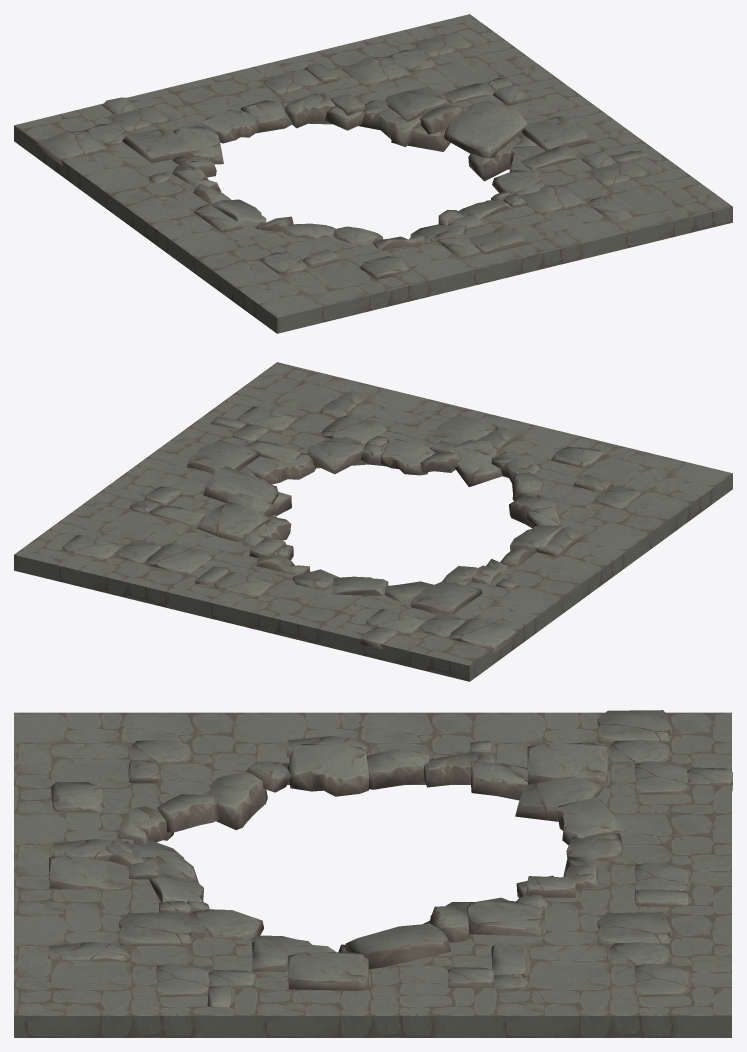
File: SM_FW01_Ruins_Int_Floor_6x6_Brkn_01.fbx
3 views of the same model, one above another, from view 1: azimuth 30°, elevation 25°; view 2: azimuth 150°, elevation 25°; view 3: azimuth 270°, elevation 25° (orthographic). The views are drawn at different scales.
Visible parts, largest first — view 1: SM_FW01_Ruins_Int_Floor_6x6_Brkn_01, SM_FW01_Ruins_Int_Floor_6x6_Brkn_01_LOD0; view 2: SM_FW01_Ruins_Int_Floor_6x6_Brkn_01, SM_FW01_Ruins_Int_Floor_6x6_Brkn_01_LOD0; view 3: SM_FW01_Ruins_Int_Floor_6x6_Brkn_01, SM_FW01_Ruins_Int_Floor_6x6_Brkn_01_LOD0.
Part boxes in pixels (x1,y1,x2,y2): SM_FW01_Ruins_Int_Floor_6x6_Brkn_01: [14, 14, 732, 333]; SM_FW01_Ruins_Int_Floor_6x6_Brkn_01_LOD0: [35, 33, 651, 279]; SM_FW01_Ruins_Int_Floor_6x6_Brkn_01: [14, 362, 732, 681]; SM_FW01_Ruins_Int_Floor_6x6_Brkn_01_LOD0: [62, 390, 642, 654]; SM_FW01_Ruins_Int_Floor_6x6_Brkn_01: [14, 712, 731, 1037]; SM_FW01_Ruins_Int_Floor_6x6_Brkn_01_LOD0: [48, 710, 732, 1007].
Size of what is drawn, in the model's own units: 6.01 by 0.5203 by 6.01.
